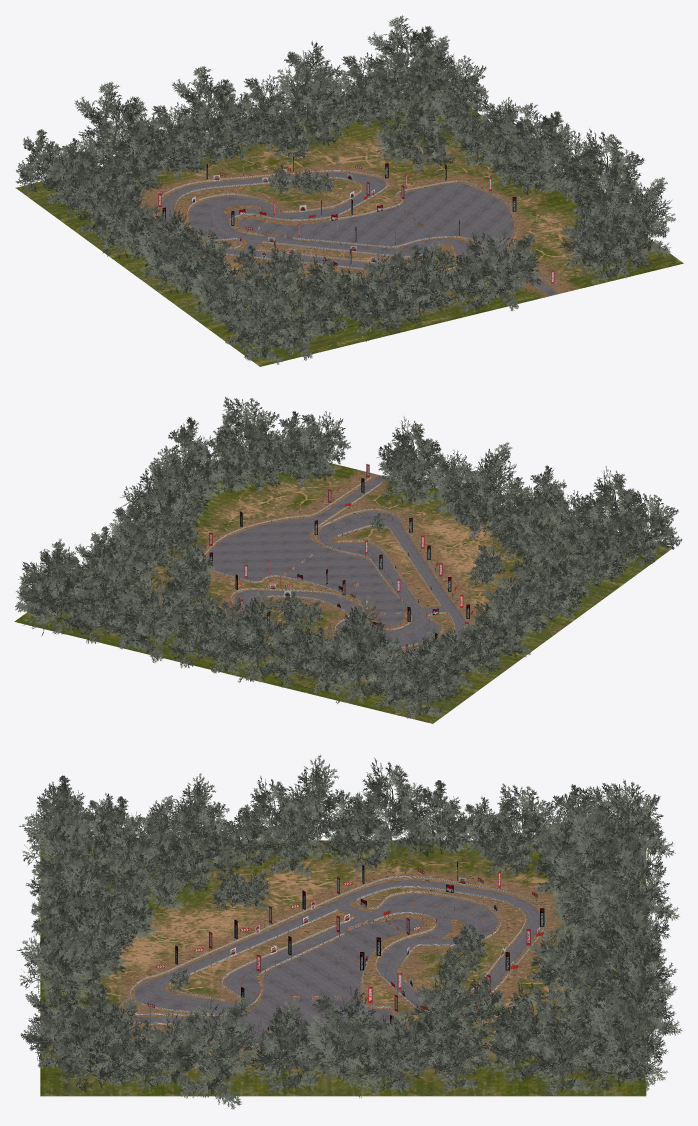
Rendered from drift-race-track.meshopt.glb.
3 renders of one model, top to bottom at view 1: azimuth 30°, elevation 25°; view 2: azimuth 150°, elevation 25°; view 3: azimuth 270°, elevation 25°, orthographic. The views are drawn at different scales.
Parts seen in each view (by area): view 1: Object_296, Object_4, Object_6, Object_482, Object_8; view 2: Object_296, Object_4, Object_6, Object_8, Object_482; view 3: Object_296, Object_4, Object_6, Object_482, Object_8.
Part boxes in pixels (<box>): Object_296: <box>15,15,676,364</box>; Object_4: <box>15,88,683,366</box>; Object_6: <box>162,172,557,295</box>; Object_482: <box>158,170,556,289</box>; Object_8: <box>156,154,554,285</box>; Object_296: <box>15,396,682,719</box>; Object_4: <box>14,460,673,723</box>; Object_6: <box>205,475,465,658</box>; Object_8: <box>207,464,472,663</box>; Object_482: <box>199,477,472,662</box>; Object_296: <box>16,754,681,1109</box>; Object_4: <box>40,840,646,1096</box>; Object_6: <box>41,880,539,1050</box>; Object_482: <box>66,876,546,1050</box>; Object_8: <box>105,856,544,1030</box>.
Size of the model in its own units: 508 by 110 by 509.
5 materials, 4 textured.
